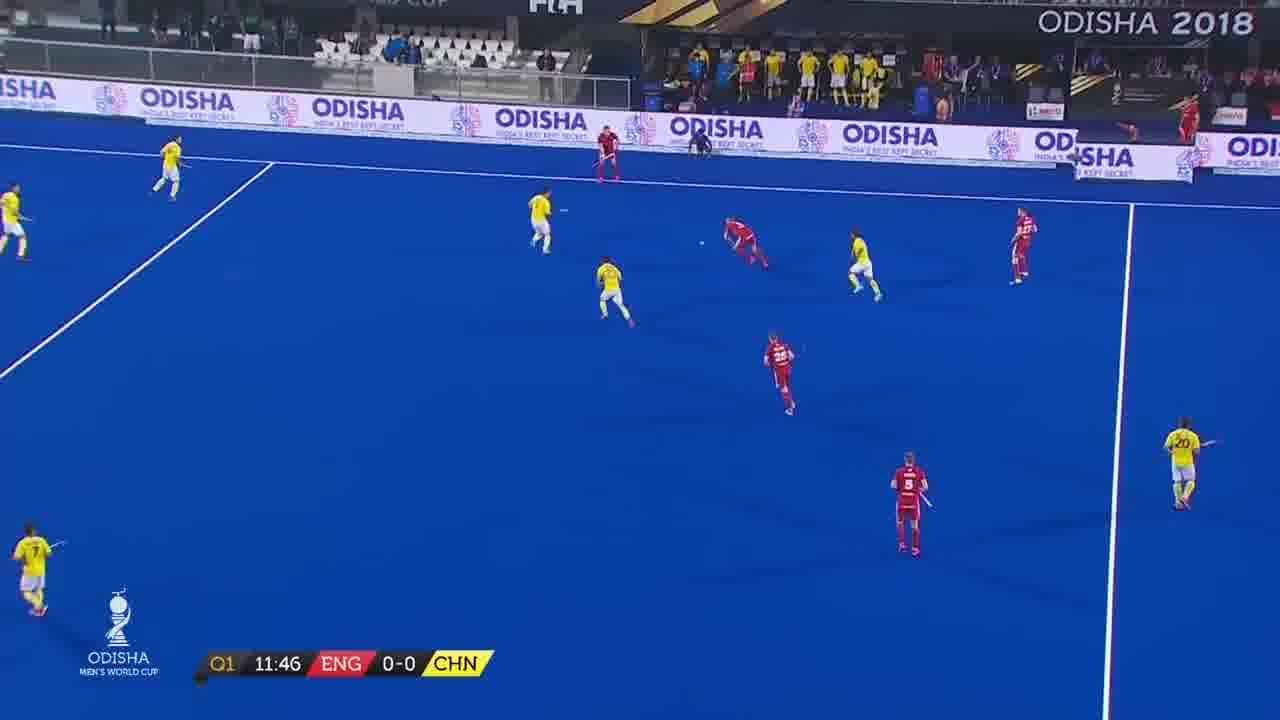ball: (686, 228, 718, 262)
